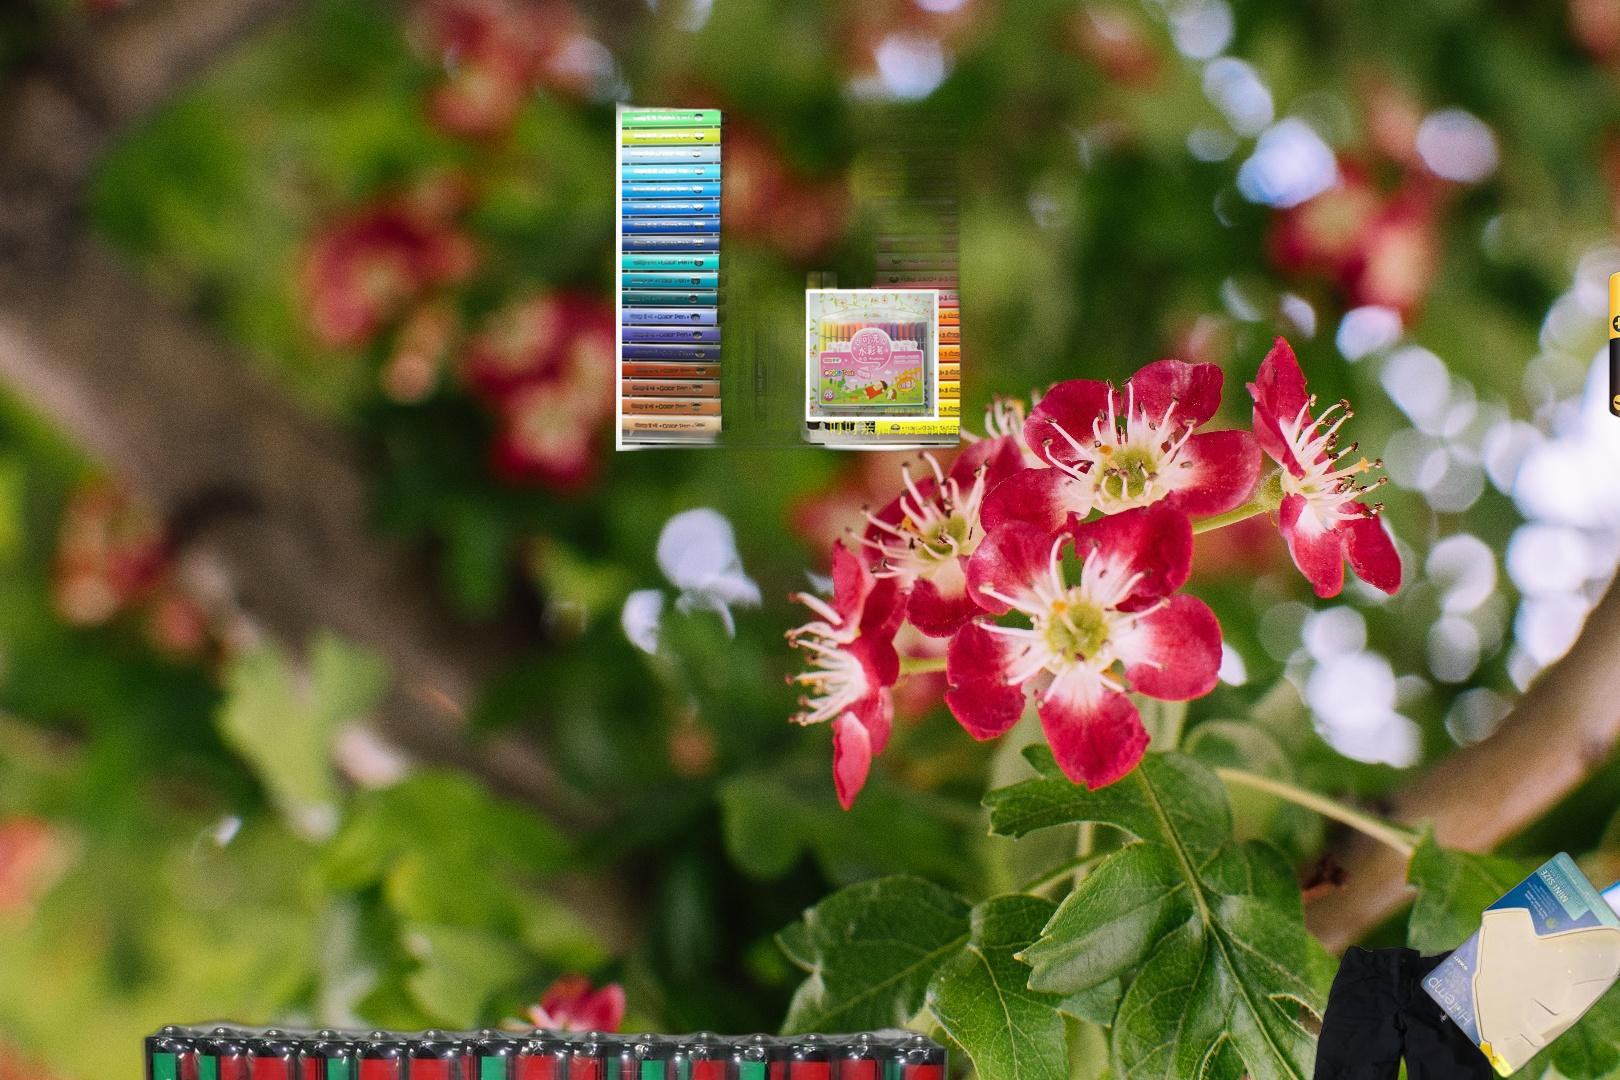battery: (3, 1013, 1098, 1080), (1606, 264, 1620, 437)
clothes: (1276, 940, 1525, 1080)
paper: (1416, 848, 1620, 1080)
penholder: (614, 99, 968, 453)
